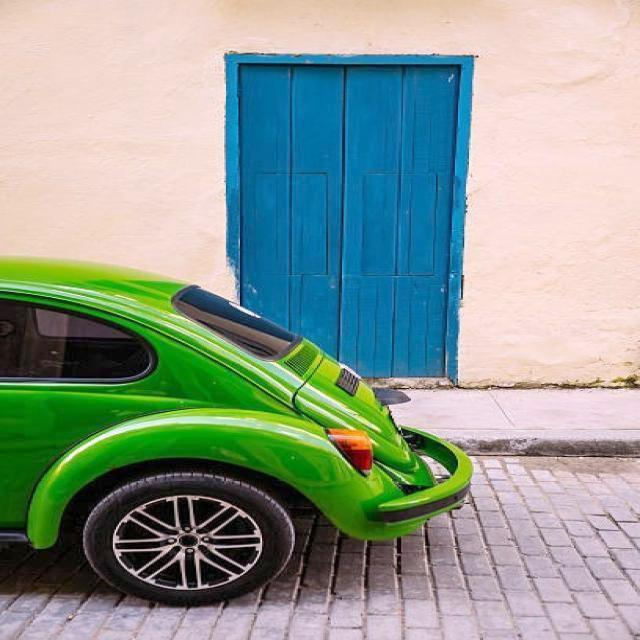car: (1, 266, 473, 577)
